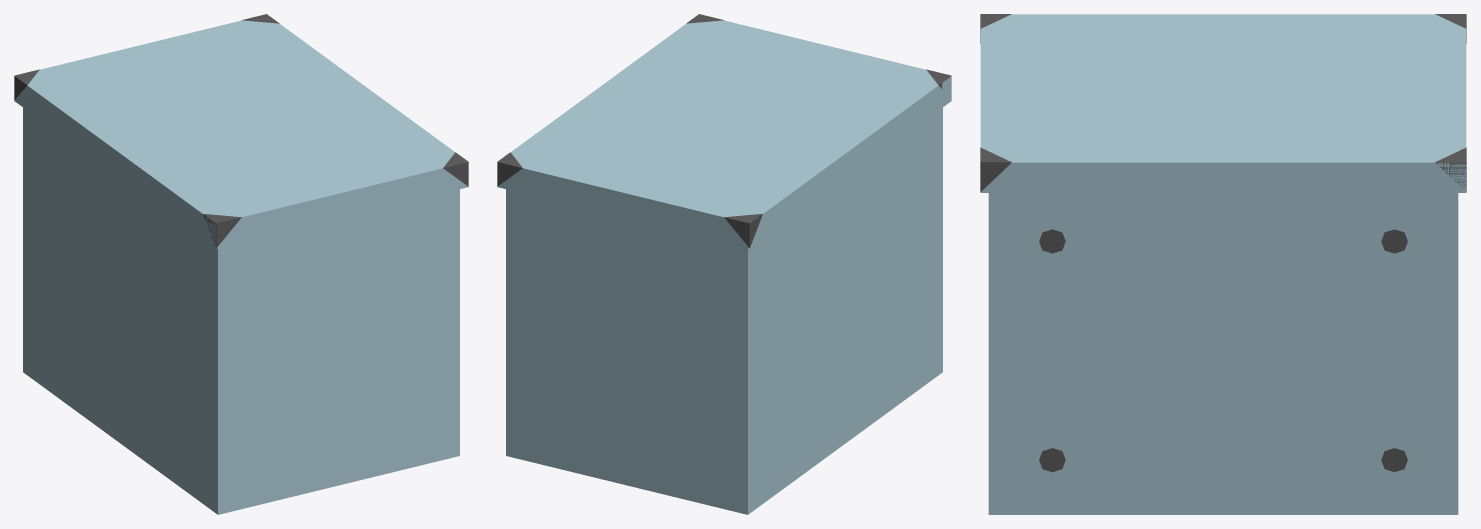
File: storage_box_4.fbx
3 views of the same model, side by side, from view 1: azimuth 30°, elevation 25°; view 2: azimuth 150°, elevation 25°; view 3: azimuth 270°, elevation 25° (orthographic). The views are drawn at different scales.
Parts seen in each view (by area): view 1: storage_box_4; view 2: storage_box_4; view 3: storage_box_4.
Boxes of the visible parts, x1=… form: storage_box_4: x1=14, y1=14, x2=468, y2=514; storage_box_4: x1=497, y1=14, x2=951, y2=514; storage_box_4: x1=980, y1=14, x2=1466, y2=514.
Bounding box in the file's own units: 30.33 × 42.02 × 33.89.
